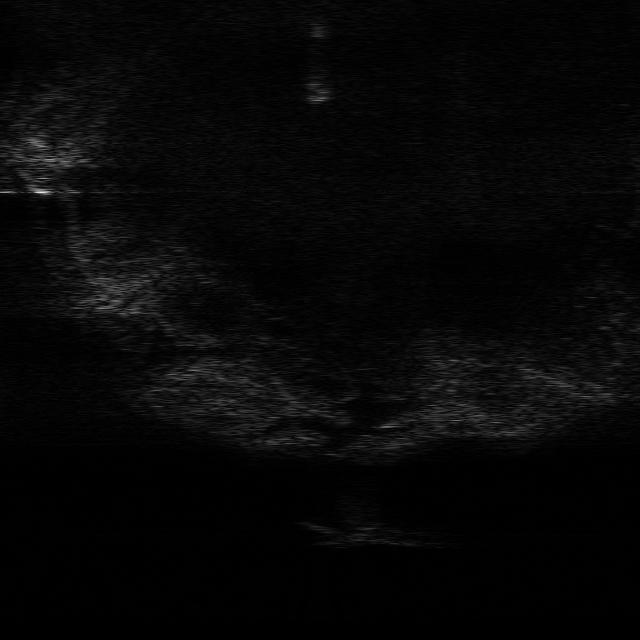plane: (297, 517, 435, 547)
